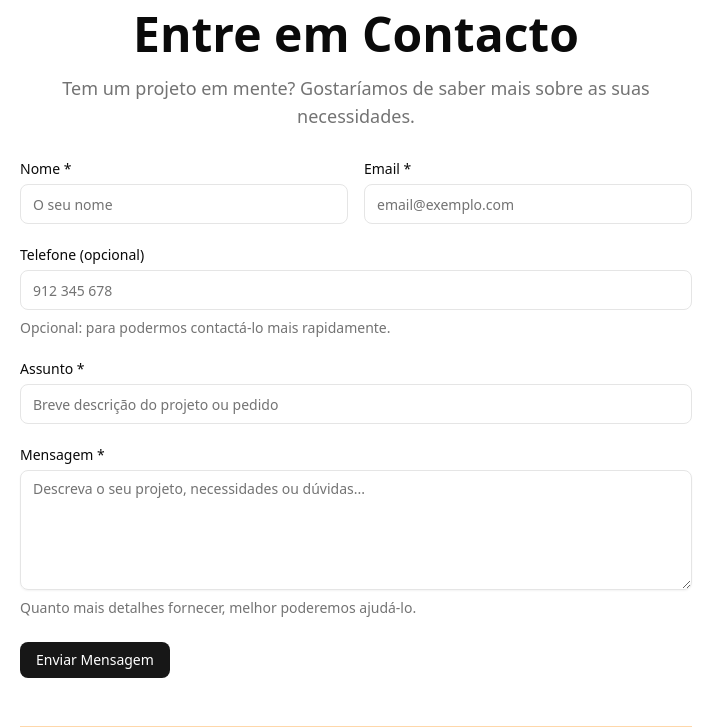
Test: ContactPage › Form validation › shows error when subject is too short
Type "Test" into the field labelled "Assunto *" at (356,404), box top-left (20, 384), bottom-right (692, 424)
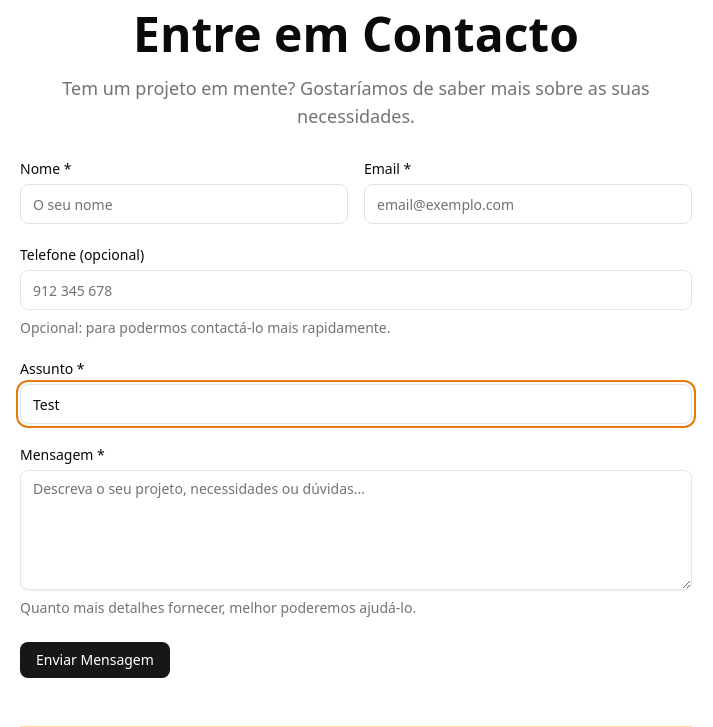
Click the button "Enviar Mensagem" at (95,660), box top-left (20, 642), bottom-right (170, 678)
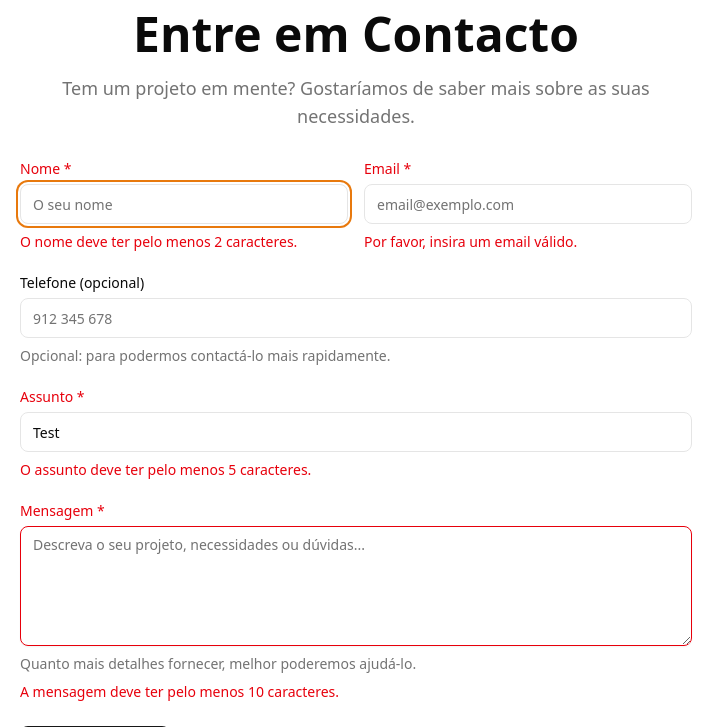
Now the text "O assunto deve ter pelo menos 5 caracteres." is shown, box top-left (20, 460), bottom-right (311, 479)
